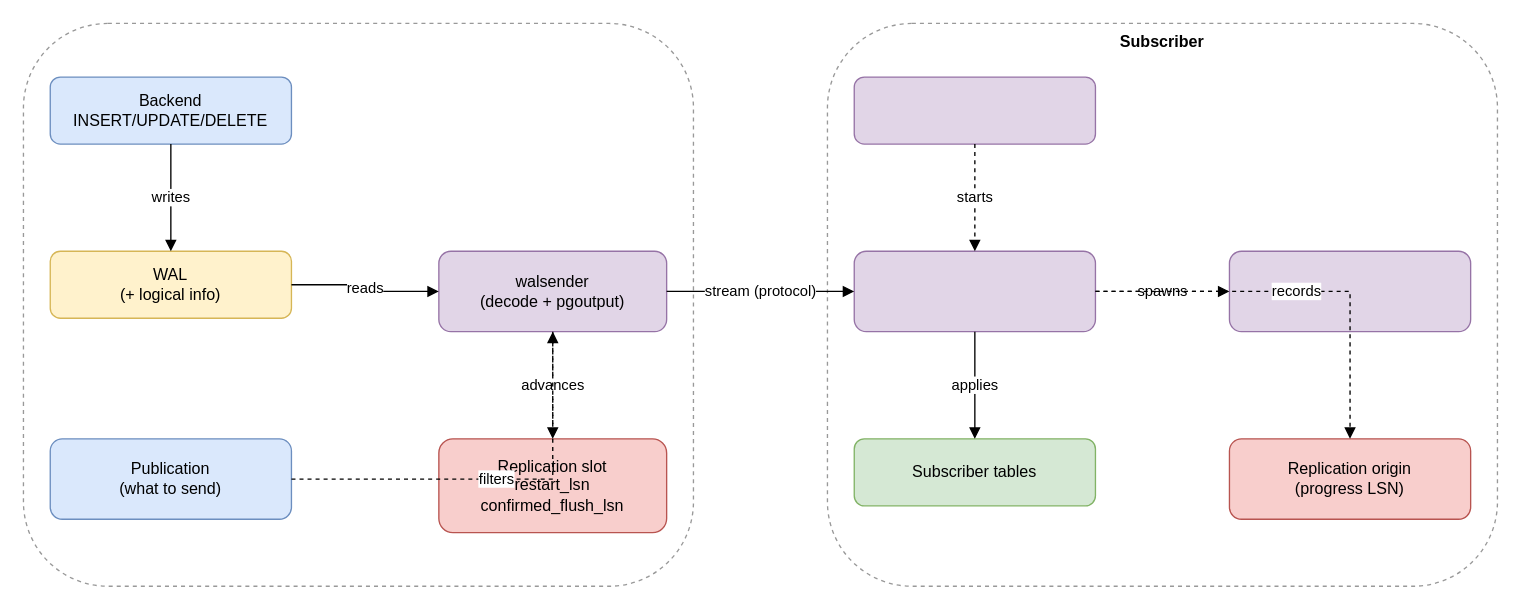
This 1521x610 diagram has some shape labels left out. The box of each missing label's shape, as (x1, y1, x2, y2) in pixels:
Apply worker (1 per subscription): (853, 250, 1095, 332)
Launcher: (853, 76, 1095, 144)
Publisher (wal_level = logical): (22, 22, 693, 586)
Tablesync worker (initial copy): (1228, 250, 1471, 332)
